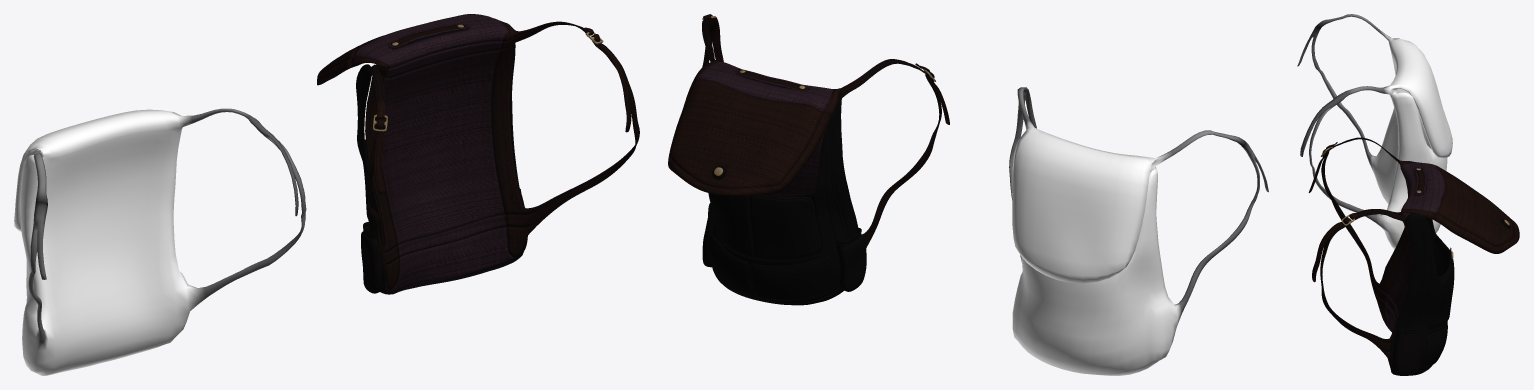
The model's file is SimpleBagForRayII.fbx.
The picture shows the model from 3 angles, left to right: view 1: azimuth 30°, elevation 25°; view 2: azimuth 150°, elevation 25°; view 3: azimuth 270°, elevation 25°; orthographic projection. The views are drawn at different scales.
Visible parts, largest first — view 1: Bag.002, BagLP; view 2: Bag.002, BagLP; view 3: Bag.002, BagLP.
Boxes of the visible parts, x1,y1,x2,y2 form: Bag.002: (317, 14, 639, 294); BagLP: (14, 108, 306, 375); Bag.002: (668, 14, 949, 305); BagLP: (1009, 87, 1268, 375); Bag.002: (1308, 137, 1519, 375); BagLP: (1297, 14, 1452, 249).
Bounding box in the file's own units: 90.12 × 35.98 × 38.46.
